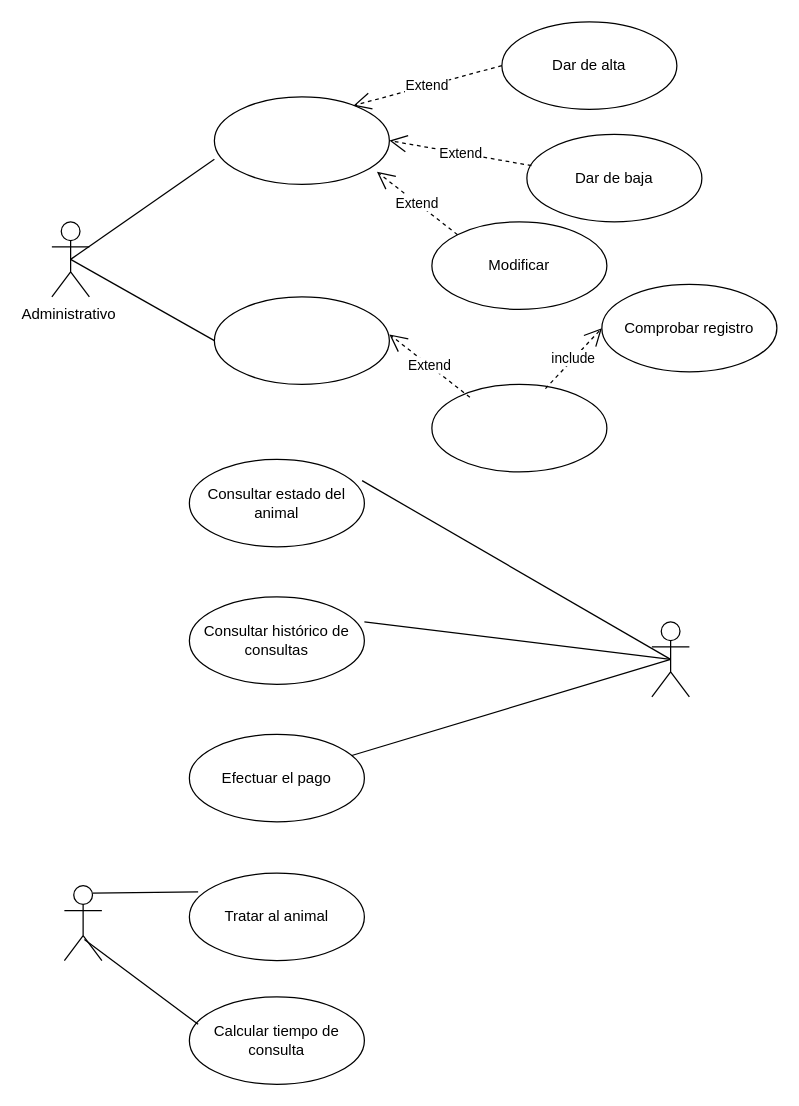
Image size: 799x1106. Some labels were removed from this diagram. Here are the shapes that lost their labels. From the top down, the box of each, then its label:
(213, 96, 389, 184): Gestionar datos clientes
(213, 296, 389, 384): Gestionar datos mascotas
(431, 383, 607, 472): Dar de alta mascota
(651, 621, 689, 697): Cliente
(63, 884, 102, 961): Veterinario
